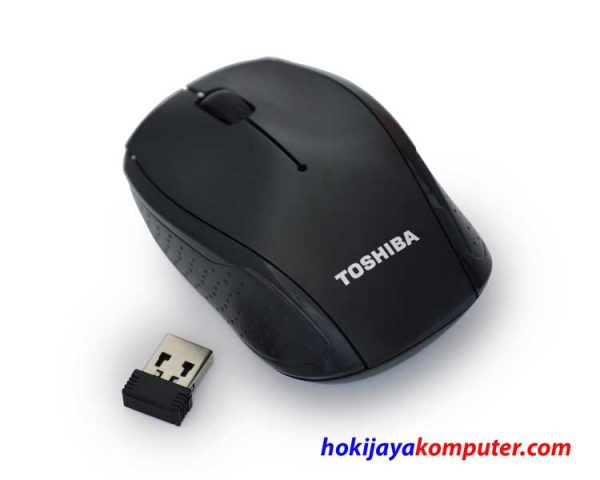Mouse: (114, 51, 496, 389)
